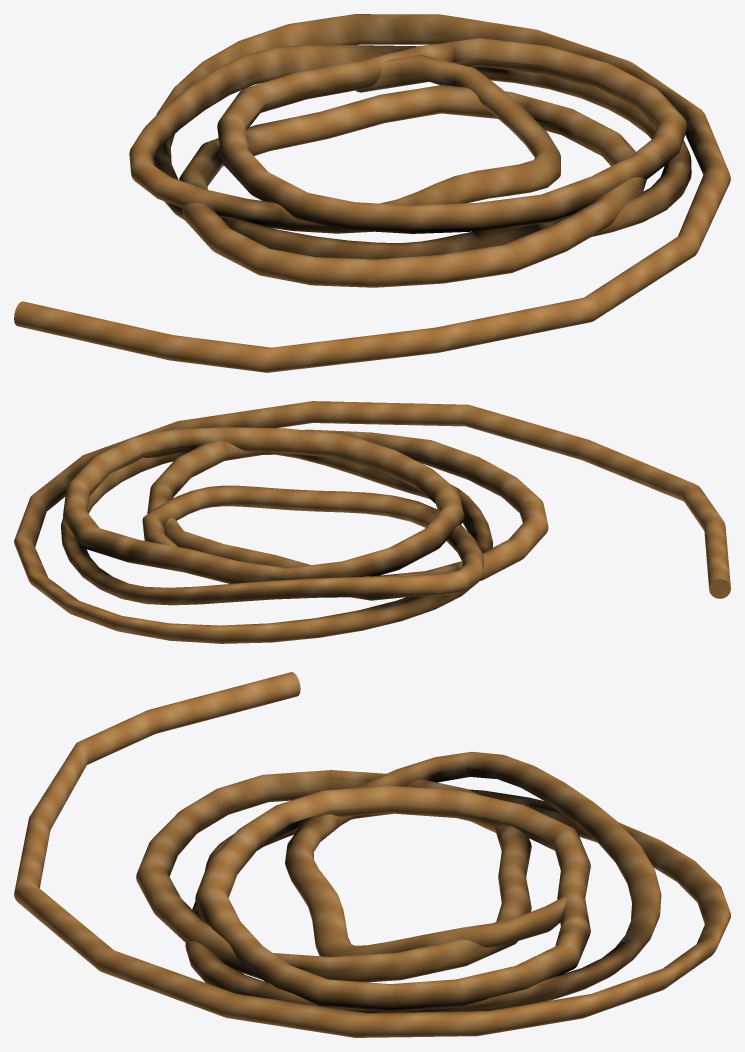
File: Prop_Rope_001_Bundle.fbx
3 renders of one model, top to bottom at view 1: azimuth 30°, elevation 25°; view 2: azimuth 150°, elevation 25°; view 3: azimuth 270°, elevation 25°, orthographic. The views are drawn at different scales.
Visible parts, largest first — view 1: Prop_Rope_002; view 2: Prop_Rope_002; view 3: Prop_Rope_002.
Part boxes in pixels (x1=…): Prop_Rope_002: x1=14, y1=14, x2=730, y2=372; Prop_Rope_002: x1=14, y1=401, x2=730, y2=643; Prop_Rope_002: x1=14, y1=672, x2=730, y2=1037.
Size of the model in its own units: 223 by 17.85 by 194.
